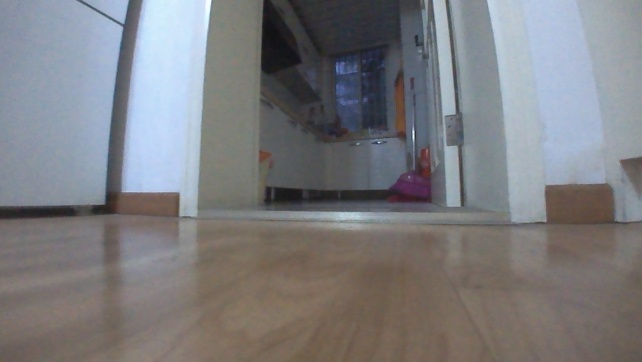cupboard: (260, 74, 405, 201)
door_anno: (411, 0, 493, 211)
refrigerator1: (0, 0, 134, 220)
